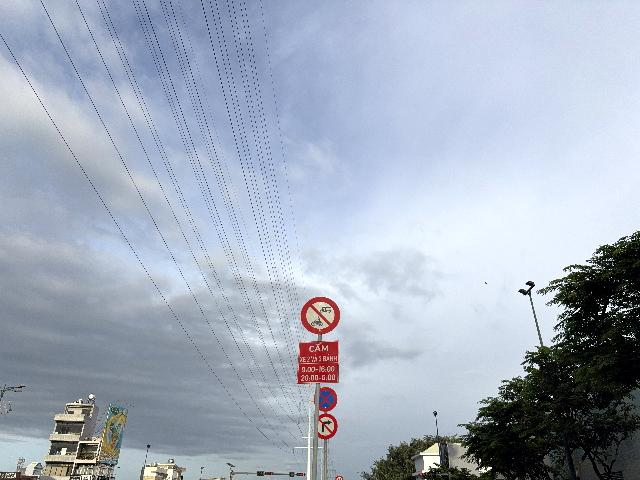cam-dung-va-do-xe: (314, 387, 337, 411)
cam-re-phai: (317, 412, 338, 440)
cam-xe-2-banh-3-banh: (300, 296, 340, 334)
